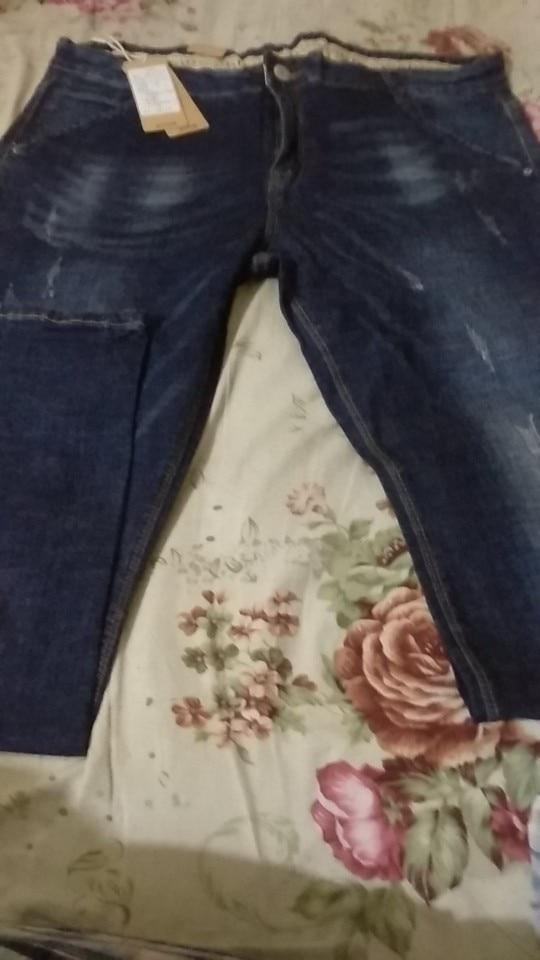jeans: (6, 37, 540, 762)
